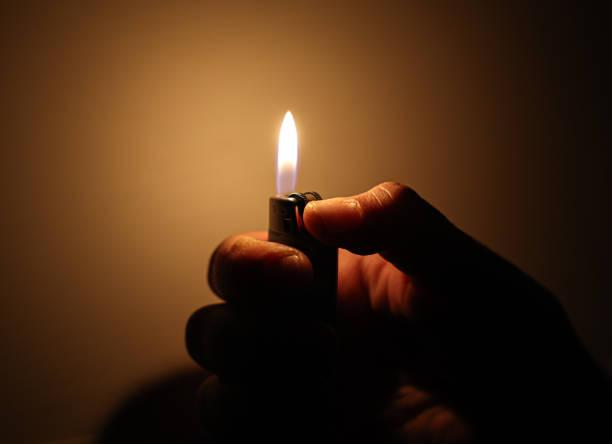Fire: (274, 107, 302, 197)
